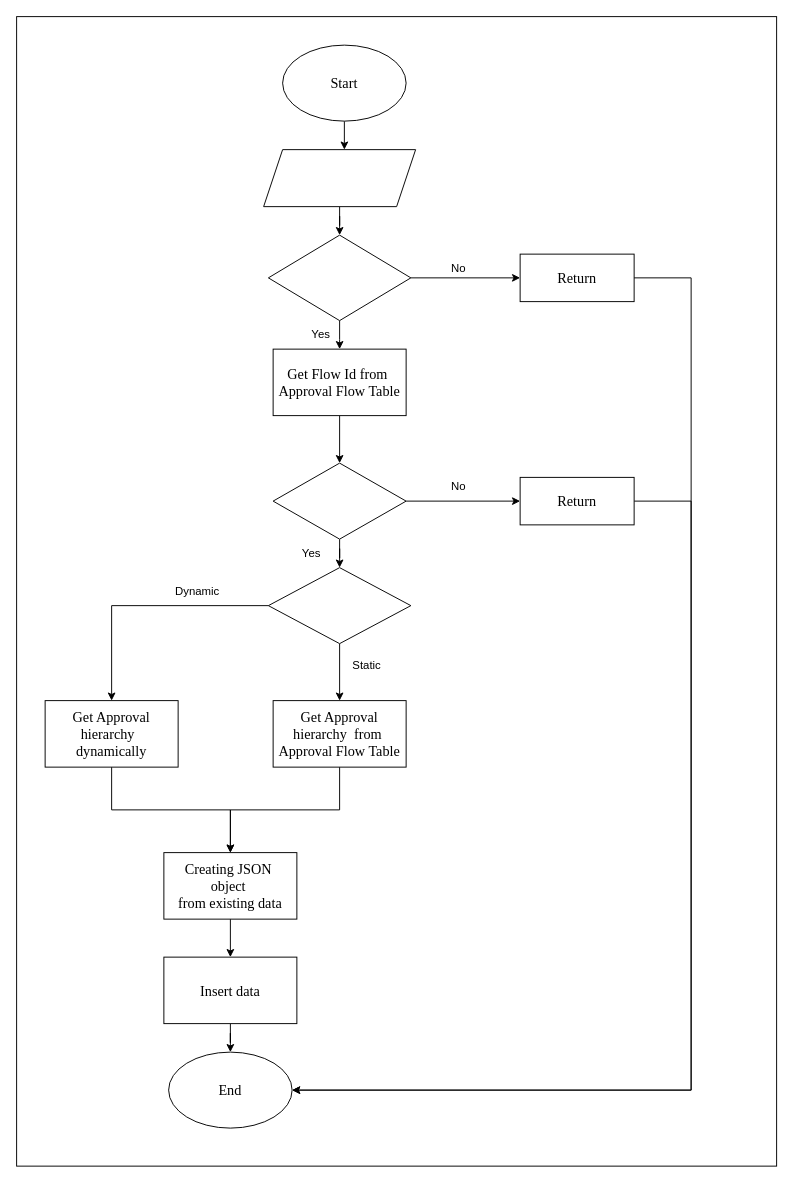
The diagram is 793 pixels wide and 1183 high, and some of its shapes have lost their labels. Each missing label, with the box of its shape:
Approval Flow Type: (267, 567, 411, 644)
If Flow id exist: (272, 462, 406, 539)
Input request Body: (263, 149, 416, 207)
Valid request body: (267, 234, 411, 321)
